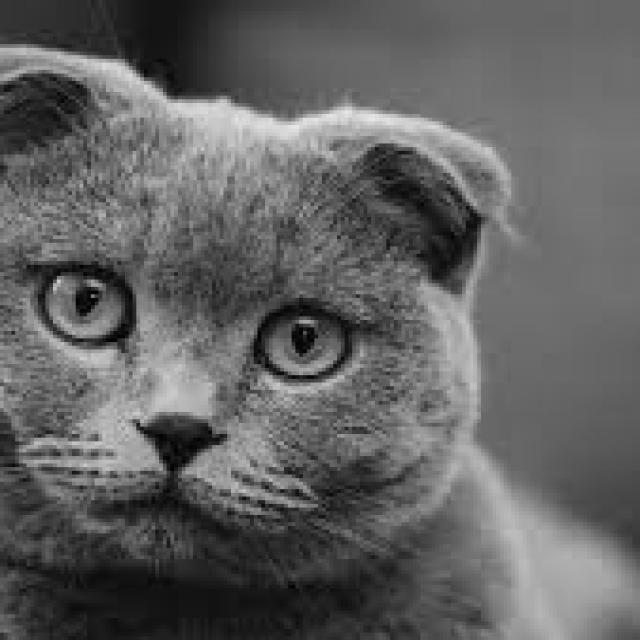scootish: (0, 18, 507, 592)
